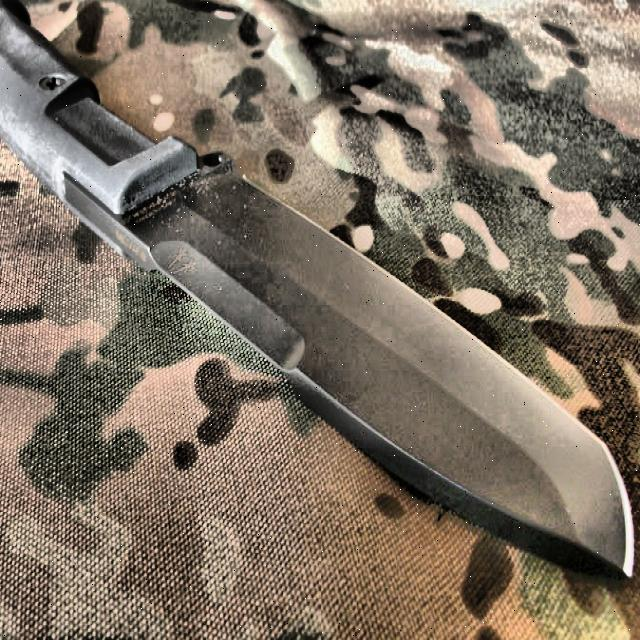knife: (0, 0, 634, 580)
